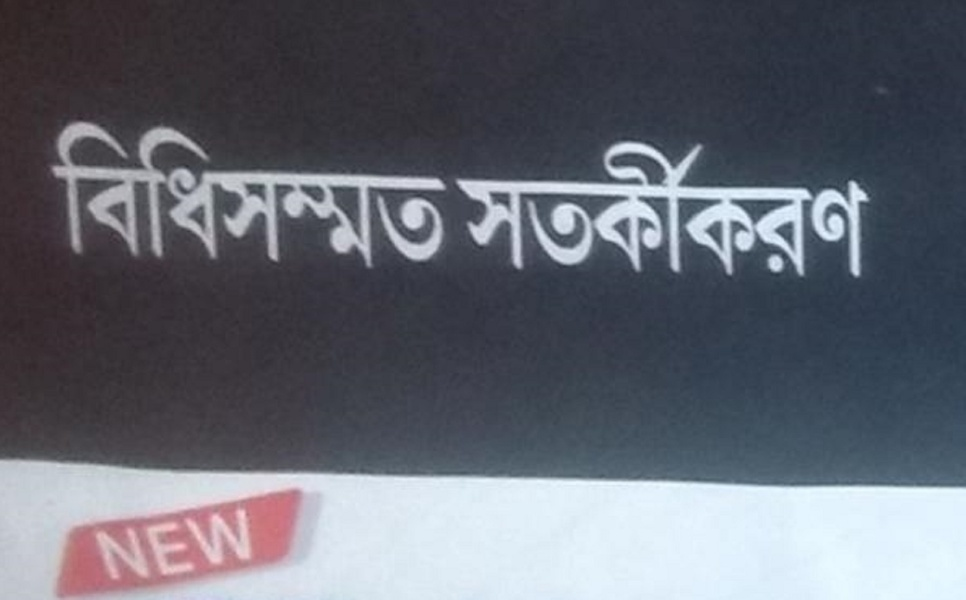text: (49, 107, 64, 279), (65, 107, 80, 279), (81, 107, 96, 279), (97, 107, 112, 279), (113, 107, 128, 279), (129, 107, 144, 279), (145, 107, 160, 279), (161, 107, 176, 279), (177, 107, 192, 279), (193, 107, 208, 279), (209, 107, 224, 279), (225, 107, 240, 279), (241, 107, 256, 279), (257, 107, 272, 279), (273, 107, 288, 279), (289, 107, 304, 279), (305, 107, 320, 279), (321, 107, 336, 279), (337, 107, 352, 279), (353, 107, 368, 279), (369, 107, 384, 279), (385, 107, 400, 279), (401, 107, 416, 279), (417, 107, 432, 279), (433, 107, 448, 279), (465, 127, 480, 288), (481, 127, 496, 288), (497, 127, 512, 288), (513, 127, 528, 288), (529, 127, 544, 288), (545, 127, 560, 288), (561, 127, 576, 288), (577, 127, 592, 288), (593, 127, 608, 288), (609, 127, 624, 288), (625, 127, 640, 288), (641, 127, 656, 288), (657, 127, 672, 288), (673, 127, 688, 288), (689, 127, 704, 288), (705, 127, 720, 288), (721, 127, 736, 288), (737, 127, 752, 288), (753, 127, 768, 288), (769, 127, 784, 288), (785, 127, 800, 288), (801, 127, 816, 288), (817, 127, 832, 288), (833, 127, 848, 288), (849, 127, 864, 288), (452, 127, 464, 288), (865, 127, 876, 288), (449, 107, 458, 279), (81, 496, 96, 591), (97, 496, 112, 591), (113, 496, 128, 591), (129, 496, 144, 591), (145, 496, 160, 591), (161, 496, 176, 591), (177, 496, 192, 591), (193, 496, 208, 591), (209, 496, 224, 591), (225, 496, 240, 591), (241, 496, 256, 591), (257, 496, 272, 591), (79, 496, 80, 591), (273, 496, 274, 591)
